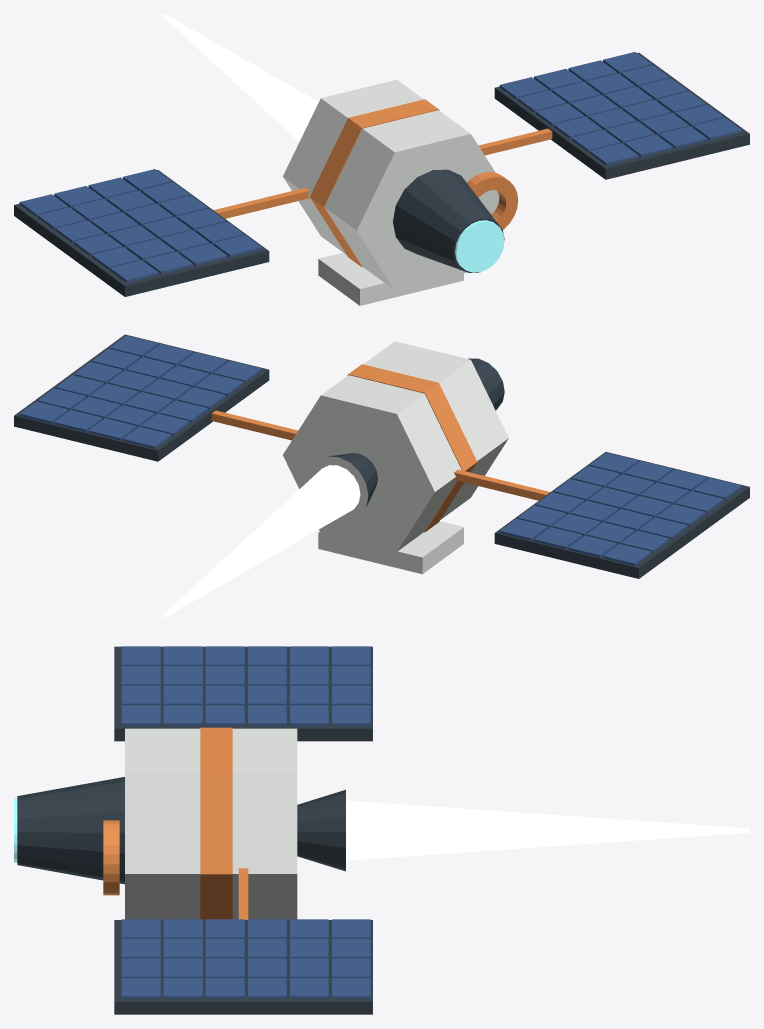
The model's file is pathfinder.gltf.
The picture shows the model from 3 angles, top to bottom: view 1: azimuth 30°, elevation 25°; view 2: azimuth 150°, elevation 25°; view 3: azimuth 270°, elevation 25°; orthographic projection. The views are drawn at different scales.
Visible parts, largest first — view 1: Solar cell (×48), Hexagonal instrument bus, Array backing (×2), Survey telescope, Illustrative exhaust, Identification band, Service mounting bracket, Telescope lens, Array boom (×2), Passive service collar; view 2: Solar cell (×48), Hexagonal instrument bus, Array backing (×2), Illustrative exhaust, Service mounting bracket, Identification band, Array boom (×2), Survey telescope, Ion engine; view 3: Solar cell (×48), Hexagonal instrument bus, Illustrative exhaust, Array backing (×2), Survey telescope, Identification band, Ion engine, Passive service collar.
Part boxes in pixels (x1,y1,x2,y2): Solar cell (×48): (19,52,741,282); Hexagonal instrument bus: (283,79,499,290); Array backing (×2): (14,52,749,296); Survey telescope: (393,169,504,272); Illustrative exhaust: (163,14,318,141); Identification band: (310,99,439,267); Service mounting bracket: (318,252,463,305); Telescope lens: (455,220,504,272); Array boom (×2): (213,128,552,218); Passive service collar: (467,172,518,229); Solar cell (×48): (19,335,741,566); Hexagonal instrument bus: (283,341,508,551); Array backing (×2): (14,334,749,578); Illustrative exhaust: (163,465,360,617); Service mounting bracket: (318,521,463,574); Identification band: (347,364,477,532); Array boom (×2): (211,410,550,500); Survey telescope: (468,358,504,410); Ion engine: (327,453,377,506); Solar cell (×48): (121,646,370,998); Hexagonal instrument bus: (125,728,297,919); Illustrative exhaust: (346,800,749,860); Array backing (×2): (114,646,372,1014); Survey telescope: (17,777,124,884); Identification band: (200,727,232,919); Ion engine: (297,789,345,871); Passive service collar: (103,820,119,895).
Bounding box in the file's own units: 7.8 × 1.98 × 6.83.
